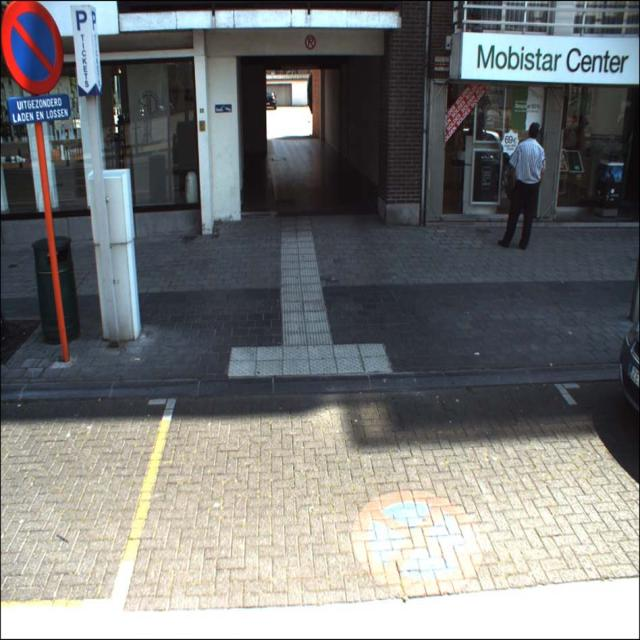parkyasak: (1, 1, 64, 96)
